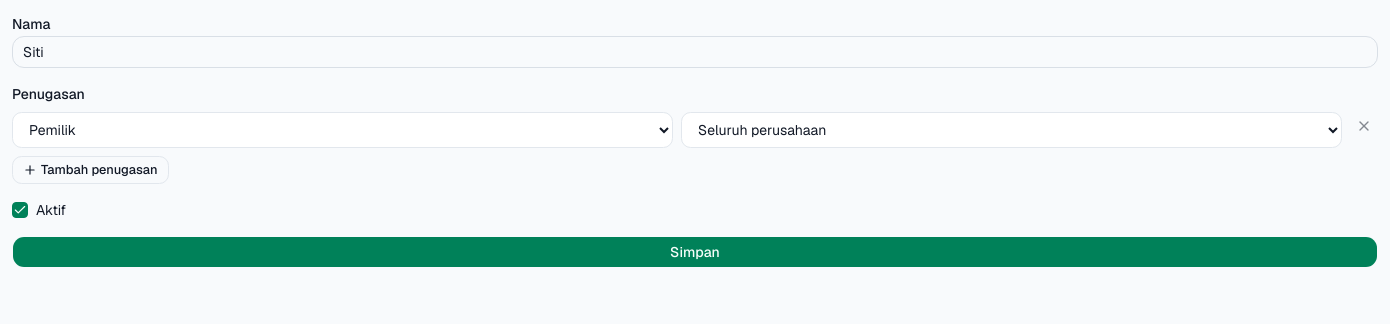
Test case: UserForm (ADR-022 assignments) › explains that the company needs another owner
This screenshot has width=1390, height=324.
Select "Manajer" in the dropdown named "Peran 1" at (342, 130), box [12,112,673,148]
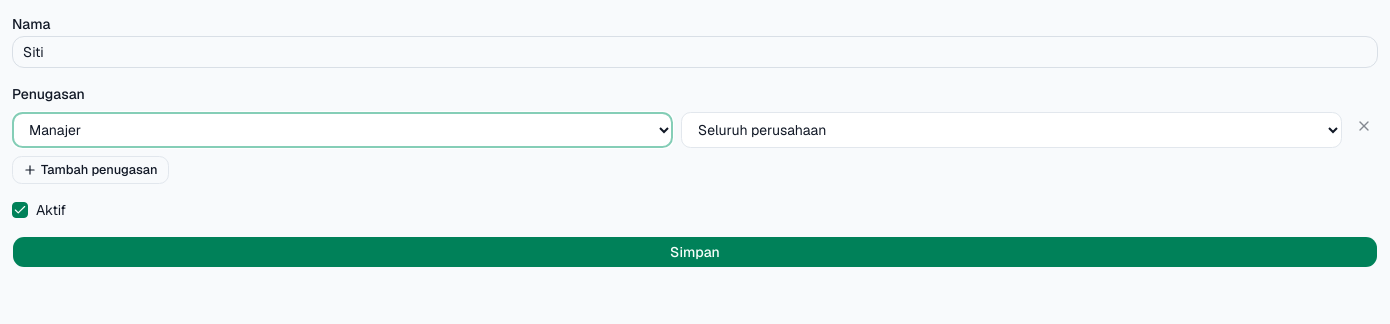
Click the button "Simpan".
click(695, 252)  # box [12,236,1378,268]
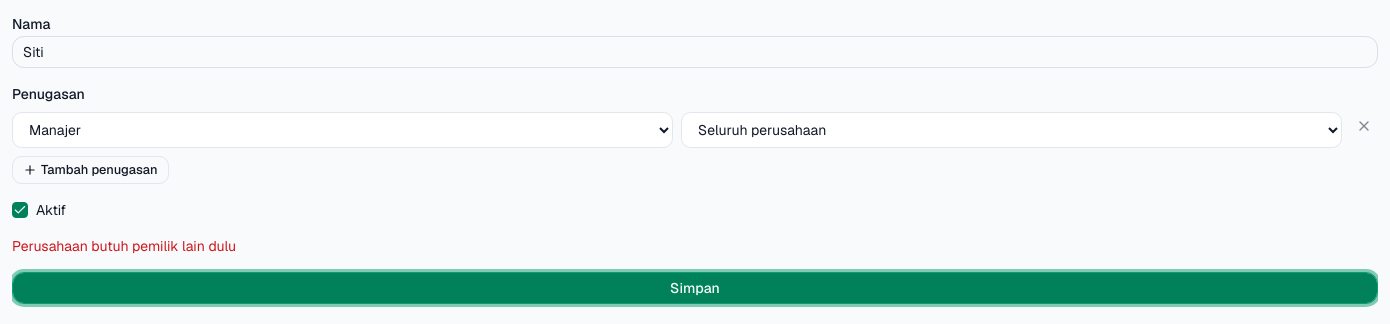
Result: the text "Perusahaan butuh pemilik lain dulu" is shown at [12,237,236,255]
